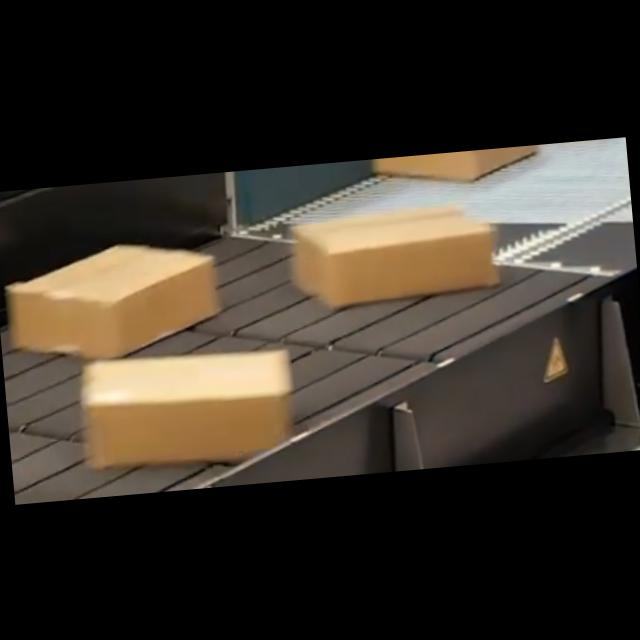box: (75, 344, 299, 474), (2, 235, 224, 361), (282, 200, 494, 310), (371, 144, 539, 184)
